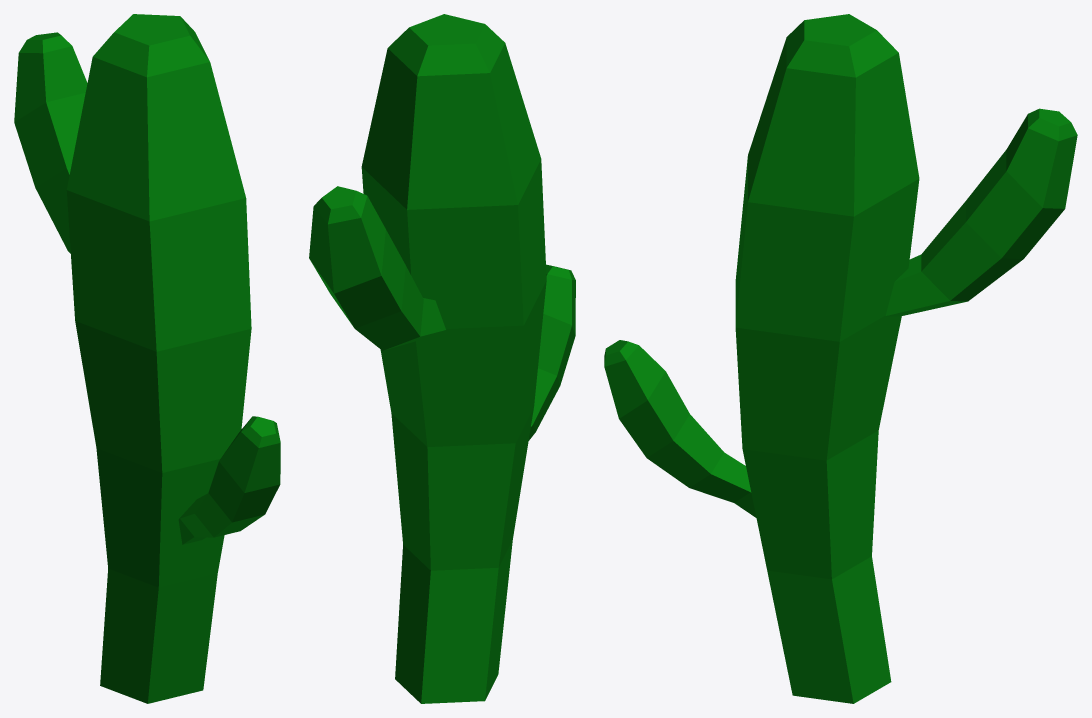
The model's file is Cactus1.fbx.
3 renders of one model, left to right at view 1: azimuth 30°, elevation 25°; view 2: azimuth 150°, elevation 25°; view 3: azimuth 270°, elevation 25°, orthographic.
Visible parts, largest first — view 1: Circle; view 2: Circle; view 3: Circle.
Part boxes in pixels (x1,y1,x2,y2): Circle: (14, 14, 280, 703); Circle: (309, 14, 575, 703); Circle: (604, 14, 1077, 703).
Bounding box in the file's own units: 290 × 1158 × 762.
